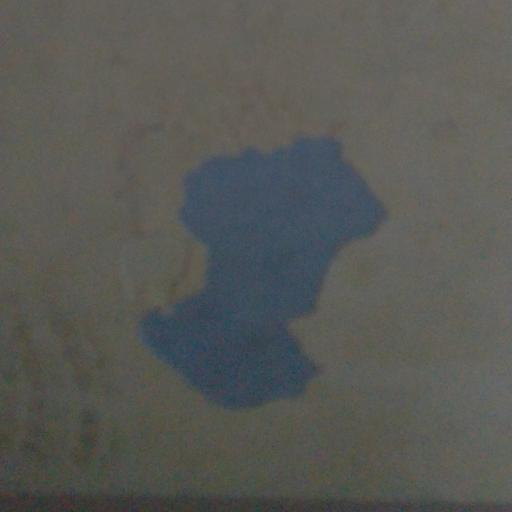peeling: (124, 130, 394, 403)
